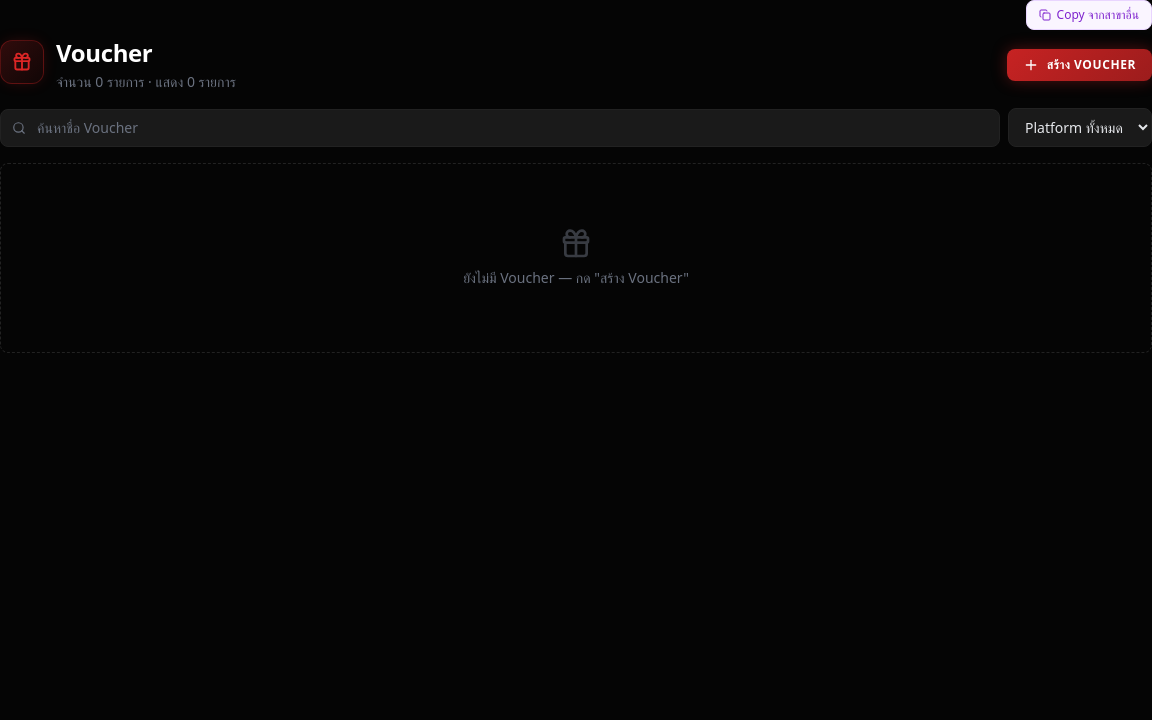
Scenario: VoucherTab — create + validate › VC6 cancel button closes modal
The image size is (1152, 720).
Click the button "สร้าง Voucher": (1079, 65) [1007, 49, 1151, 81]
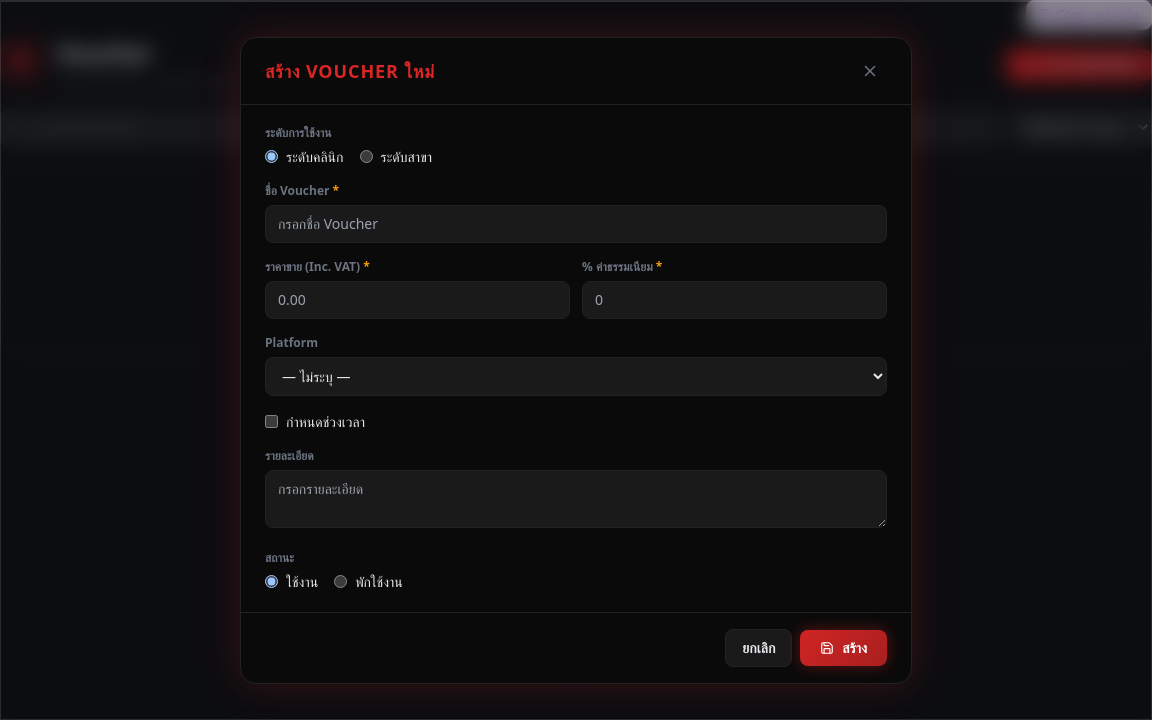
Result: the heading "สร้าง Voucher ใหม่" is shown at [265, 56, 435, 84]
Click the button "ยกเลิก": (759, 648) [725, 628, 792, 666]
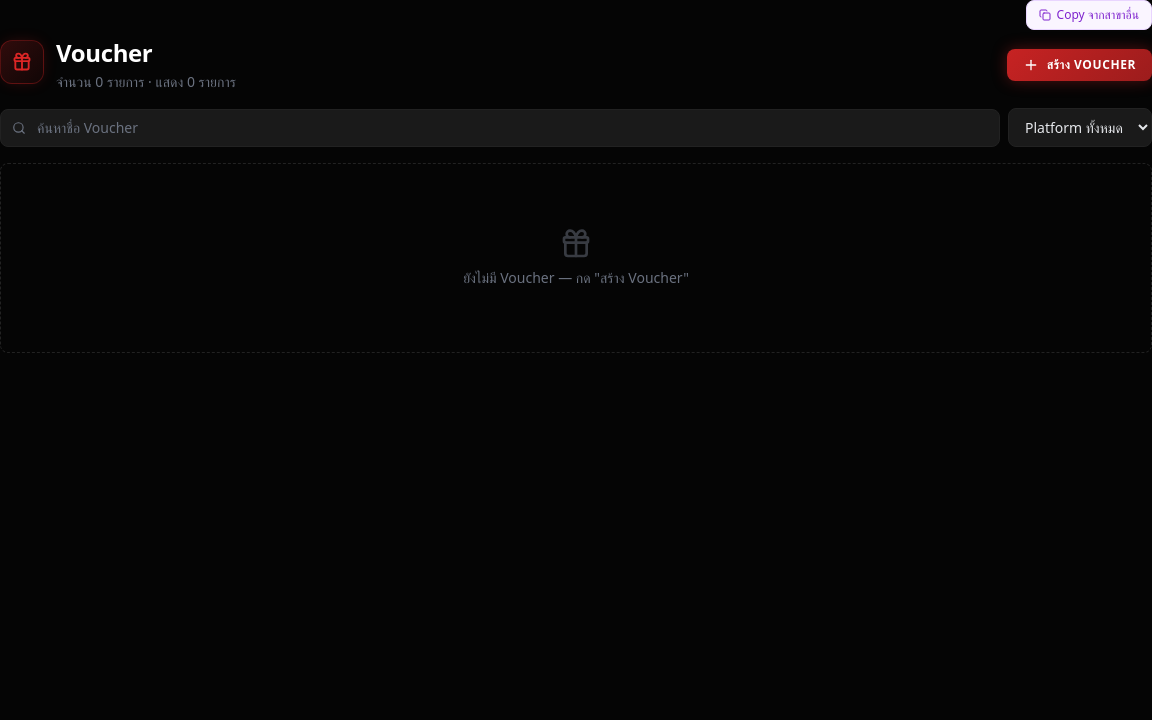
Result: the heading "สร้าง Voucher ใหม่" is gone
